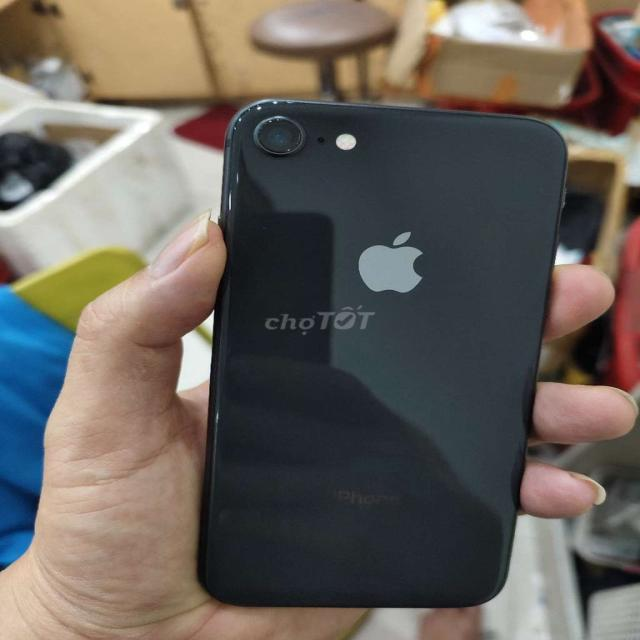gen_7_8: (208, 87, 568, 605)
